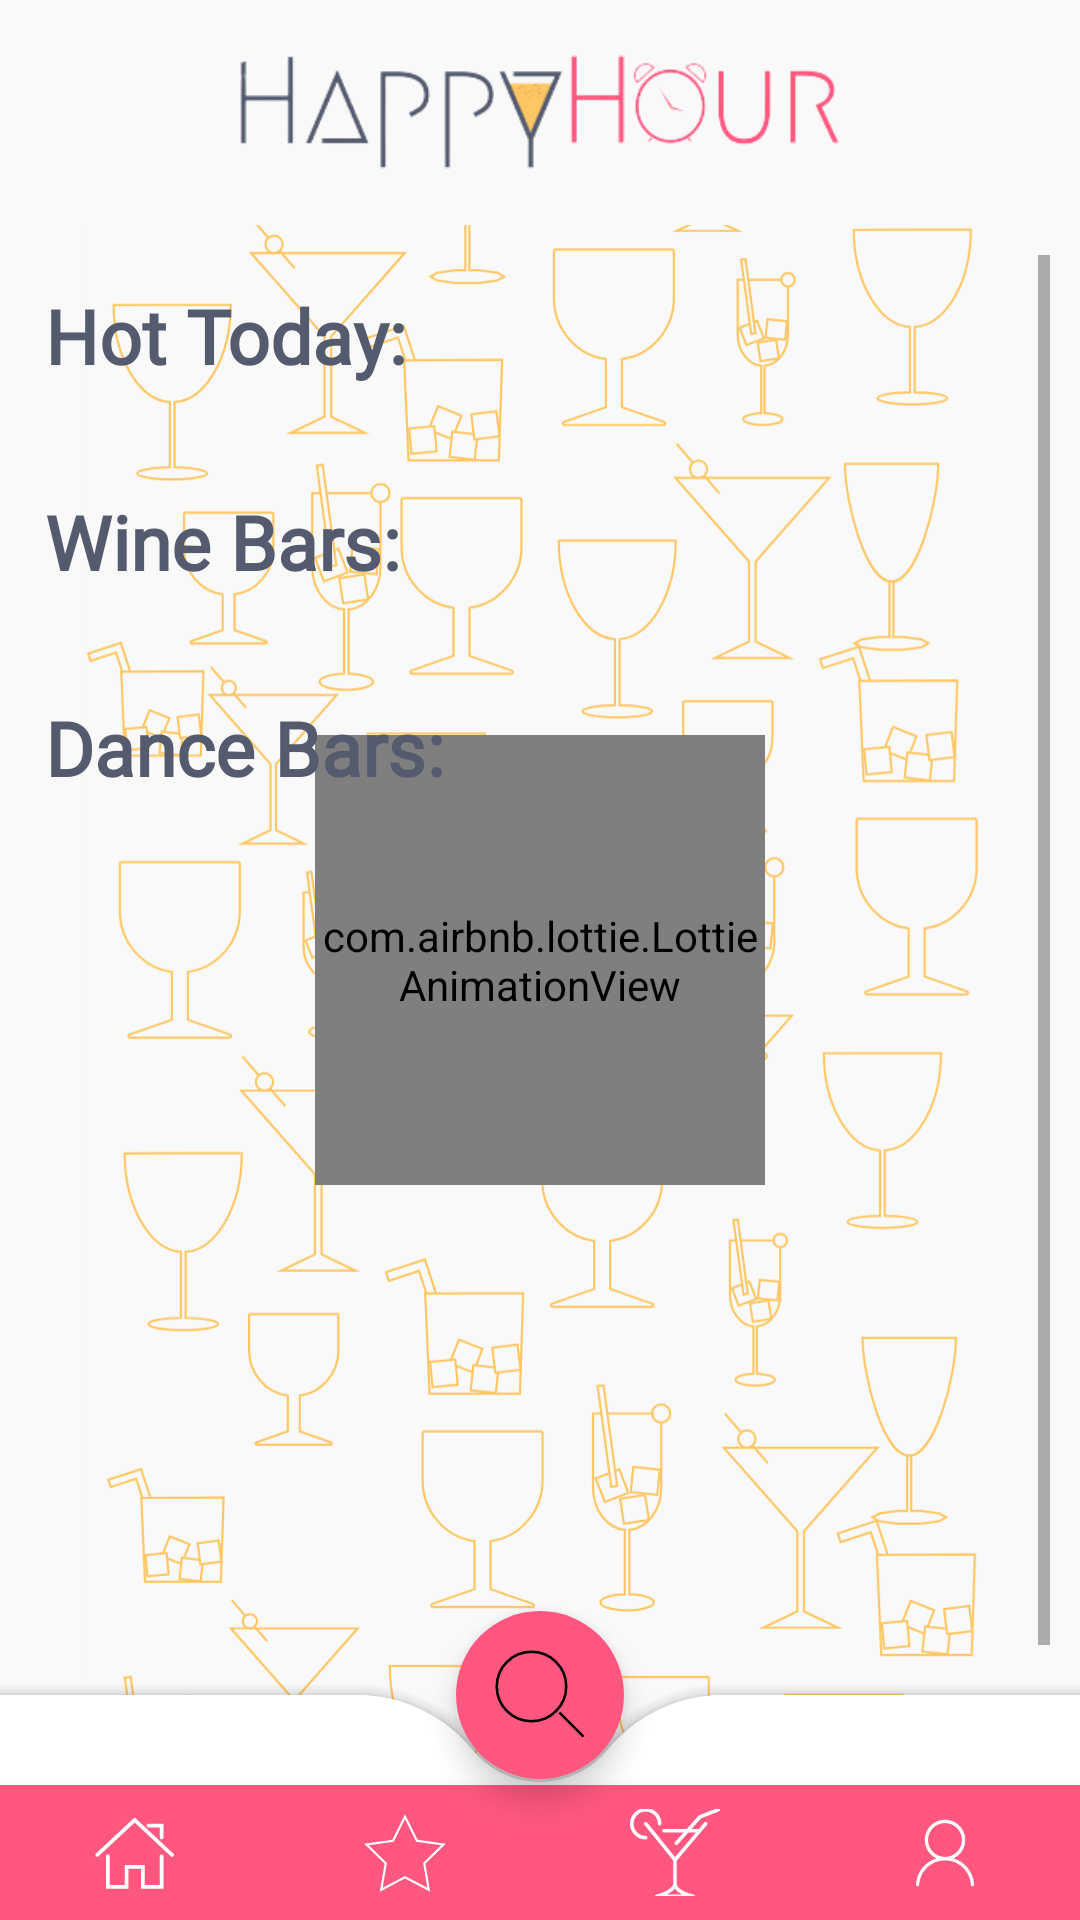

Icon bounding boxes for this 1080px x 1920px phone screenshot, format (x1=x1, y1=y1, x2=x2, y2=y2):
search: (x1=456, y1=1611, x2=624, y2=1779)
